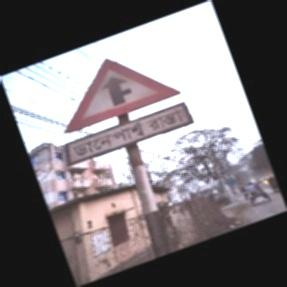Side-road-right: (64, 57, 193, 170)
